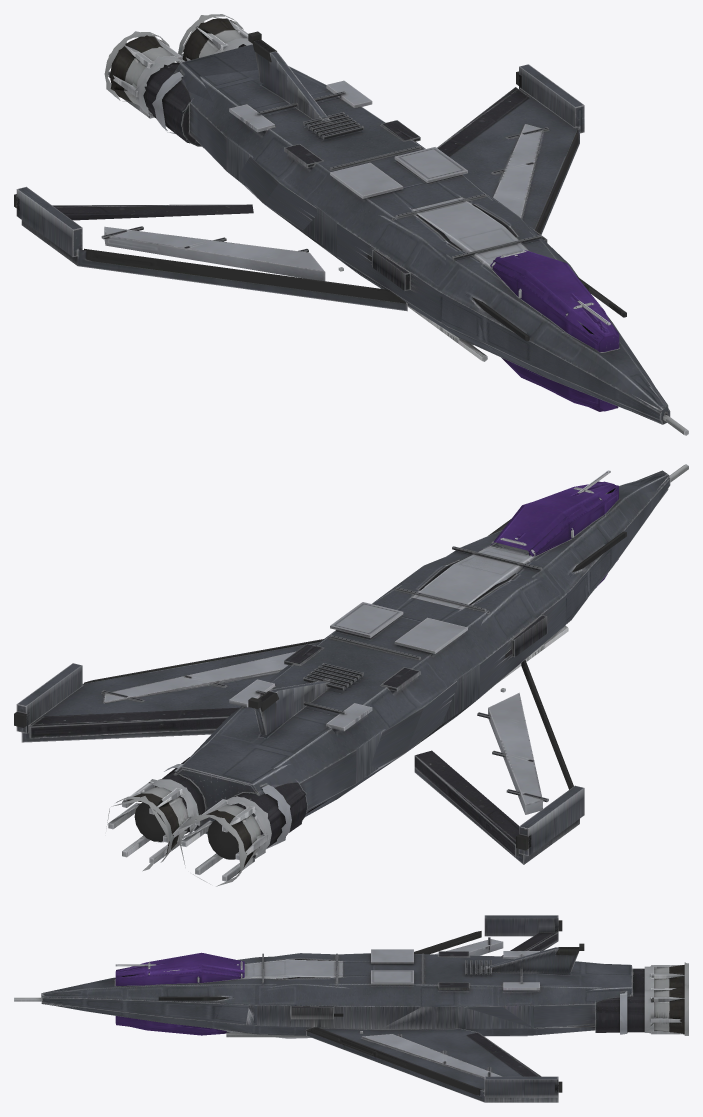
Rendered from ship_hayalet.glb.
3 views of the same model, one above another, from view 1: azimuth 30°, elevation 25°; view 2: azimuth 150°, elevation 25°; view 3: azimuth 270°, elevation 25° (orthographic). The views are drawn at different scales.
Parts seen in each view (by area): view 1: LOD0_body, LOD1_body; view 2: LOD0_body, LOD1_body; view 3: LOD0_body, LOD1_body.
Part boxes in pixels (left/top/right/bottom): LOD0_body: left=14, top=14, right=688, bottom=435; LOD1_body: left=22, top=15, right=668, bottom=424; LOD0_body: left=14, top=464, right=688, bottom=881; LOD1_body: left=23, top=470, right=669, bottom=886; LOD0_body: left=14, top=915, right=688, bottom=1102; LOD1_body: left=41, top=939, right=688, bottom=1102.
Size of the model in its own units: 0.5761 by 0.1399 by 1.
1 material, 1 textured.
